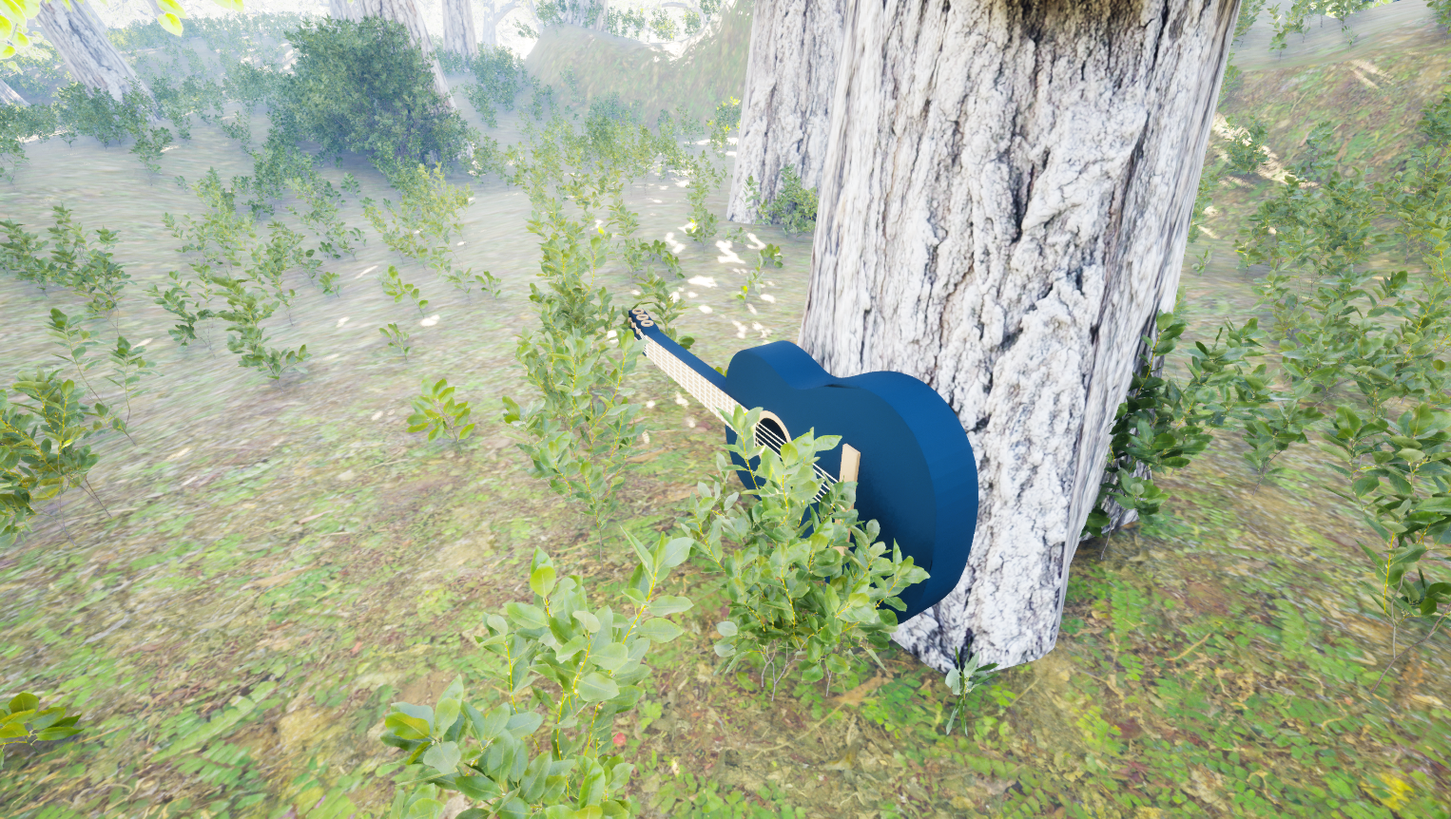Guitar: (610, 244, 1003, 670)
